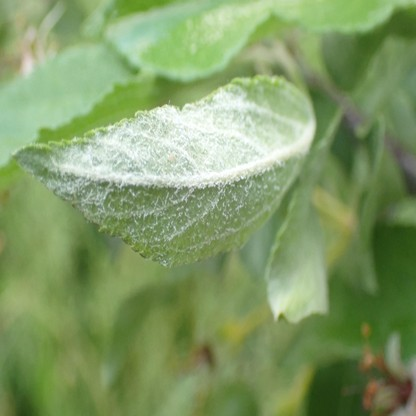powdery_mildew: (12, 74, 316, 264)
